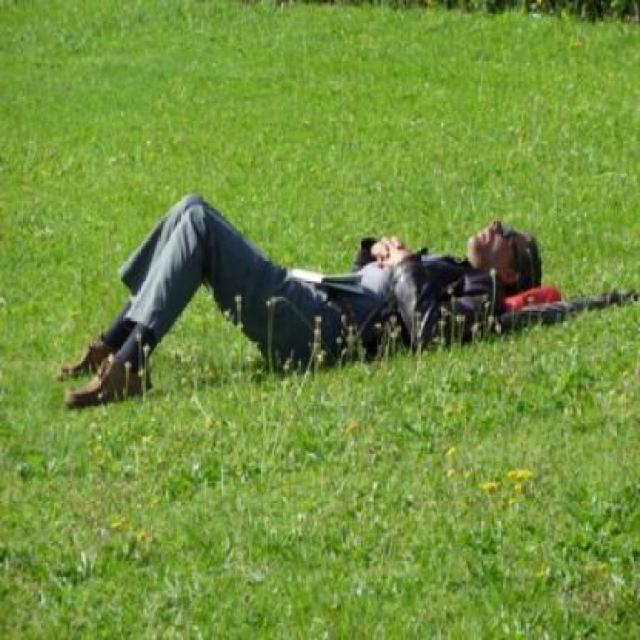fall: (64, 173, 554, 401)
